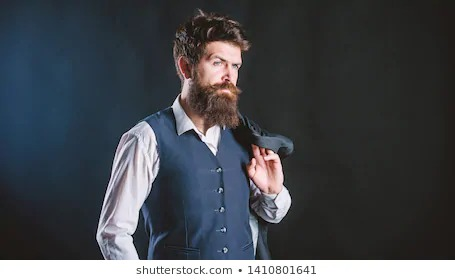F_shirt: (94, 106, 291, 257)
